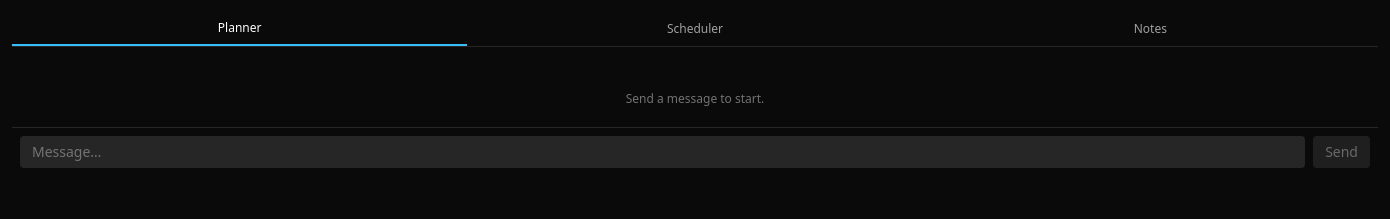
Test: ChatPanel › shows an LLM failure as a red banner
In the field named "Message planner": [663, 152] box x1=20 y1=136 x2=1305 y2=168, type "The launch moved to Monday"
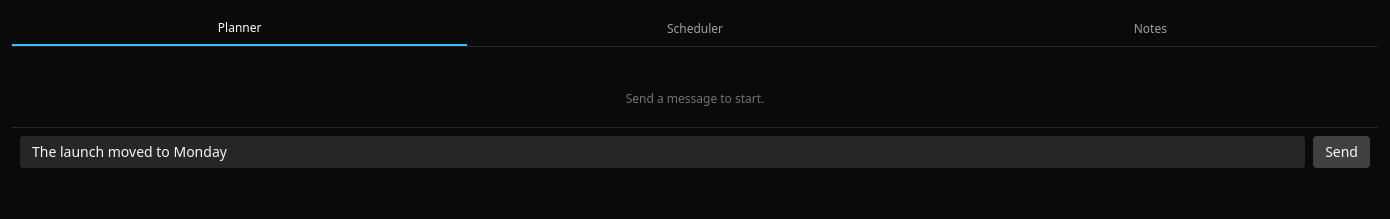
Click the button "Send": [1342, 152] box x1=1313 y1=136 x2=1370 y2=168
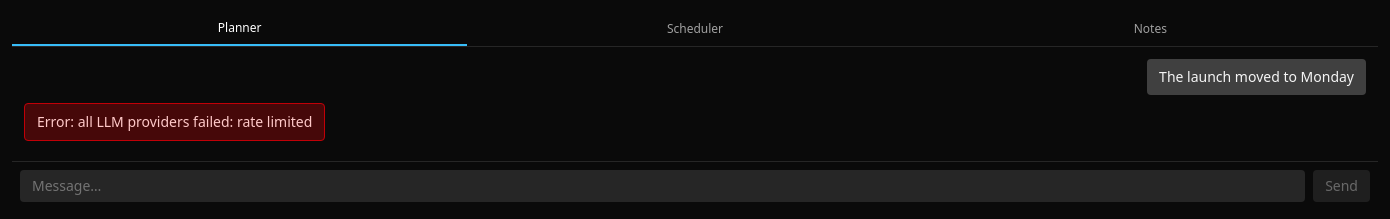
Check: the message shows "all LLM providers failed: rate limited", box x1=37 y1=112 x2=312 y2=131
Check: the text "The launch moved to Monday" is shown, box x1=1147 y1=59 x2=1366 y2=95
